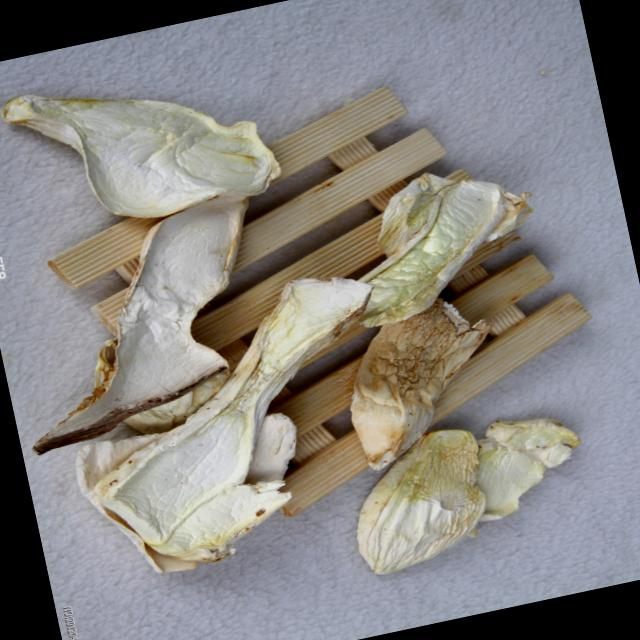Pleurotus eryngii: (68, 272, 404, 562), (338, 402, 596, 579), (330, 169, 527, 324)
